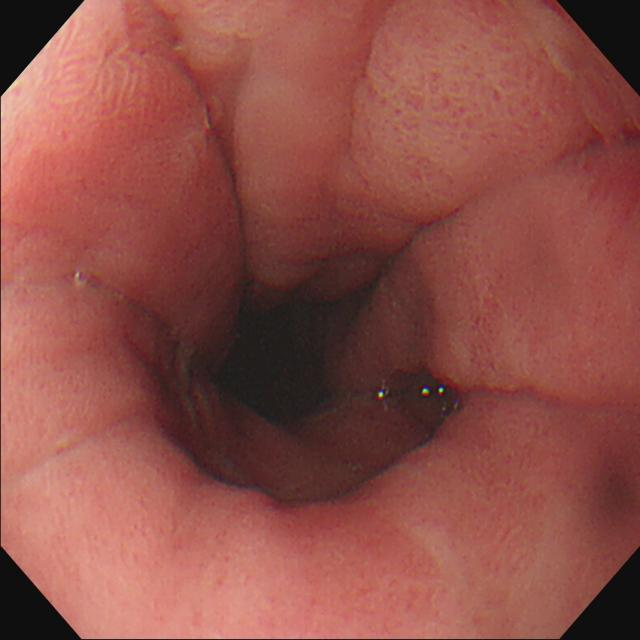A: (370, 14, 548, 185)
E: (218, 306, 333, 429)
